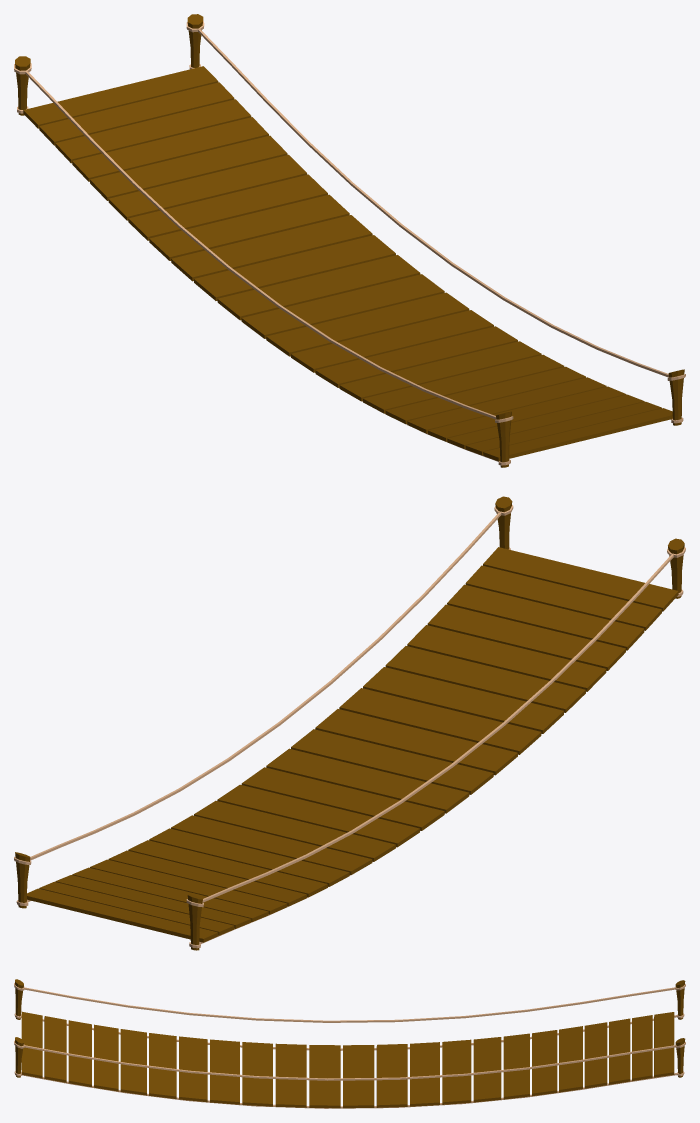
File: DrawBridge_v2.fbx
The picture shows the model from 3 angles, top to bottom: view 1: azimuth 30°, elevation 25°; view 2: azimuth 150°, elevation 25°; view 3: azimuth 270°, elevation 25°; orthographic projection. The views are drawn at different scales.
Visible parts, largest first — view 1: DrawBridge1; view 2: DrawBridge1; view 3: DrawBridge1.
Part boxes in pixels (left/top/right/bottom): DrawBridge1: left=14, top=14, right=685, bottom=467; DrawBridge1: left=14, top=496, right=685, bottom=950; DrawBridge1: left=14, top=979, right=685, bottom=1108.
Size of what is drawn, in the model's own units: 7.97 by 4.1 by 35.58.
